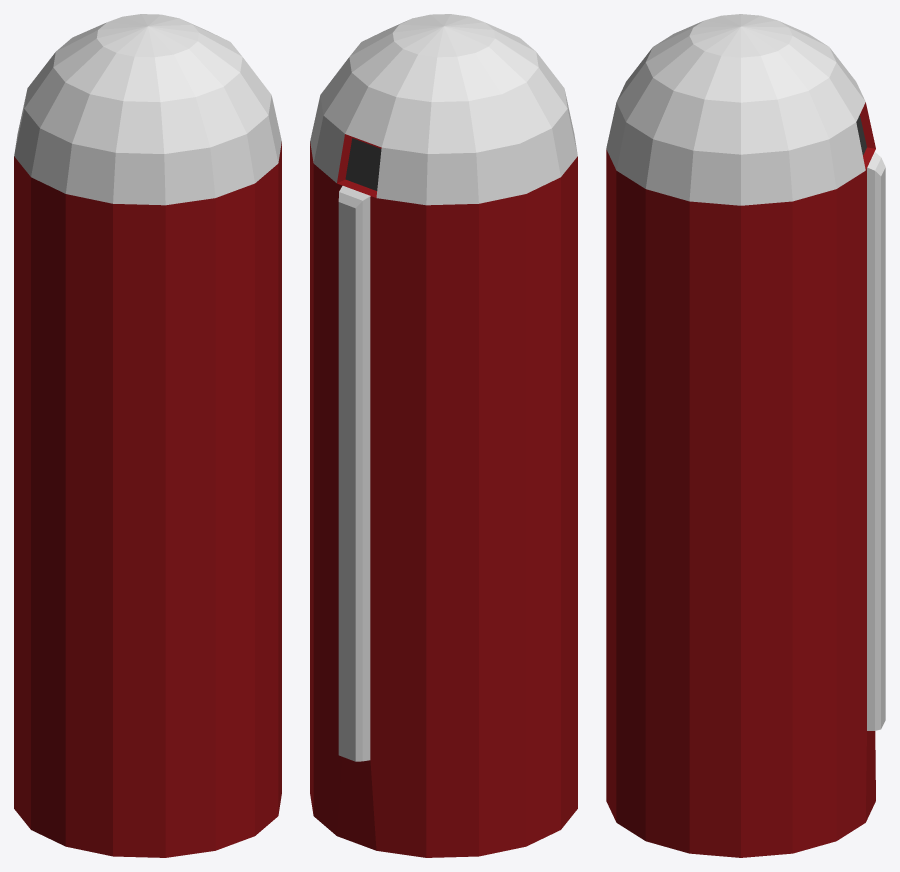
The model's file is silo.glb.
3 views of the same model, side by side, from view 1: azimuth 30°, elevation 25°; view 2: azimuth 150°, elevation 25°; view 3: azimuth 270°, elevation 25° (orthographic).
Visible parts, largest first — view 1: Silo; view 2: Silo; view 3: Silo.
Boxes of the visible parts, box(x1,y1,x2,y2) form: Silo: box(14, 14, 281, 857); Silo: box(310, 14, 577, 857); Silo: box(606, 14, 885, 857).
Bounding box in the file's own units: 3 × 9.5 × 3.11.
